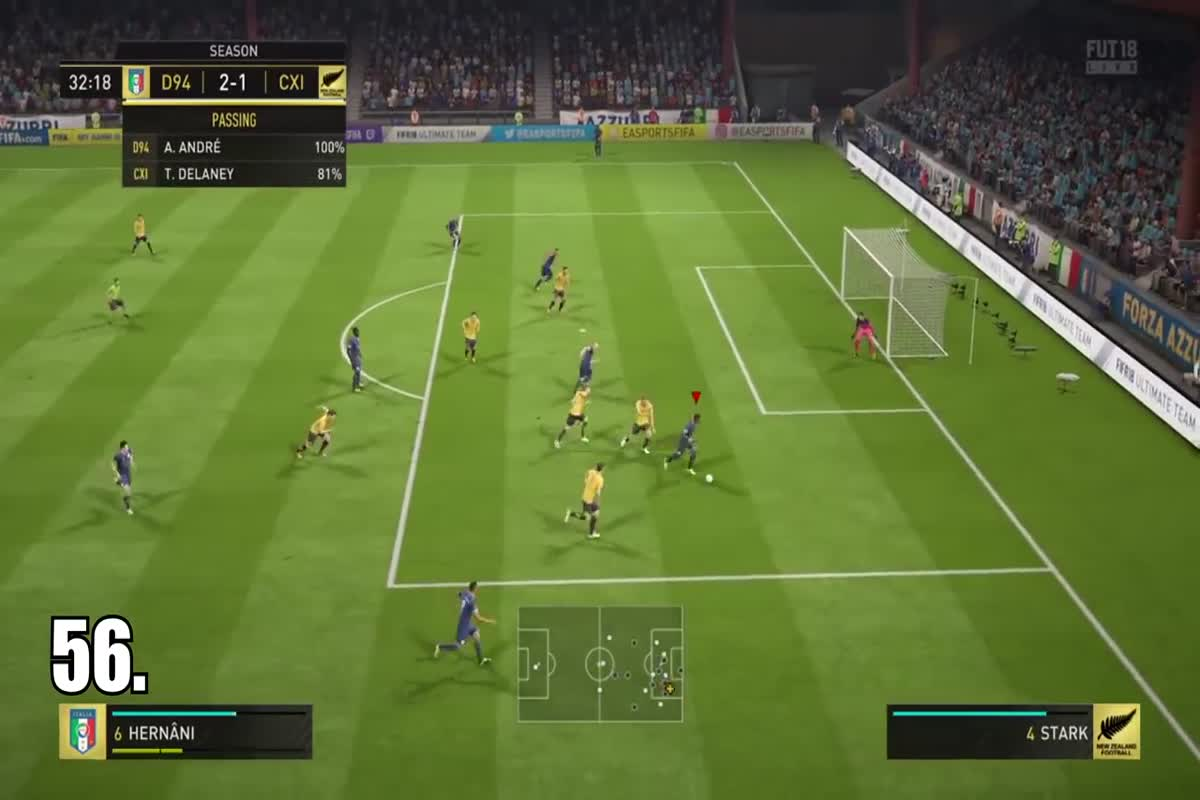ball: (699, 468, 718, 489)
